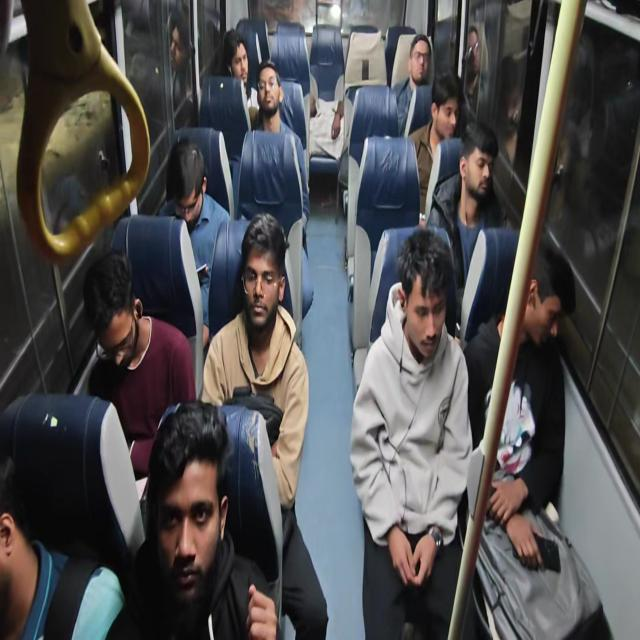person: (461, 241, 612, 638), (200, 212, 328, 638), (349, 226, 474, 638), (104, 399, 279, 639), (83, 249, 196, 480), (0, 458, 126, 639), (424, 120, 504, 322), (158, 138, 231, 345), (250, 60, 310, 237), (407, 71, 463, 223), (307, 24, 344, 160), (392, 33, 433, 136), (166, 8, 196, 128), (221, 28, 259, 122), (494, 52, 524, 167), (461, 24, 488, 120), (306, 92, 344, 159)
